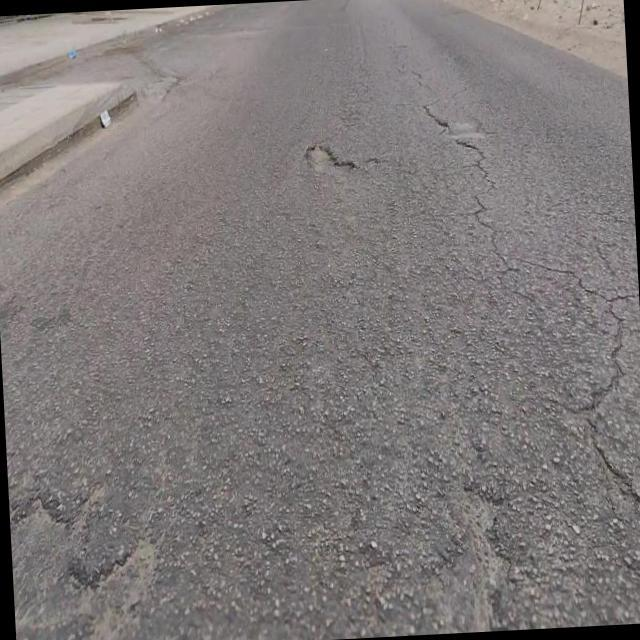Pothole: (303, 143, 354, 170)
